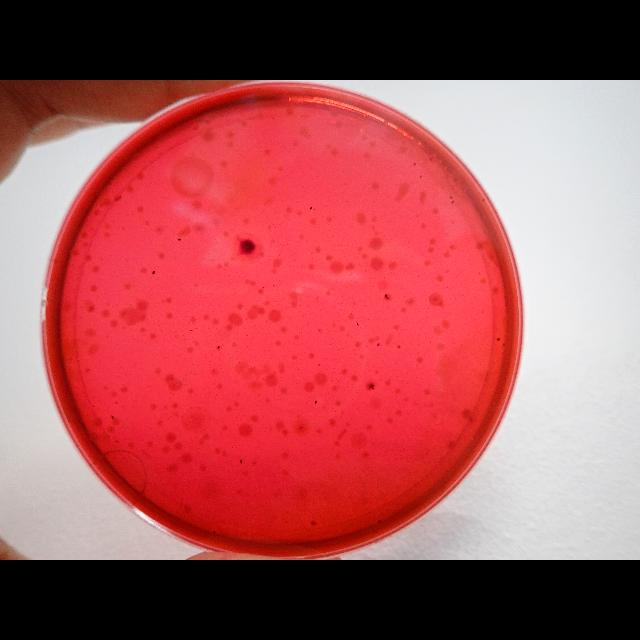colony: (300, 184, 330, 212)
